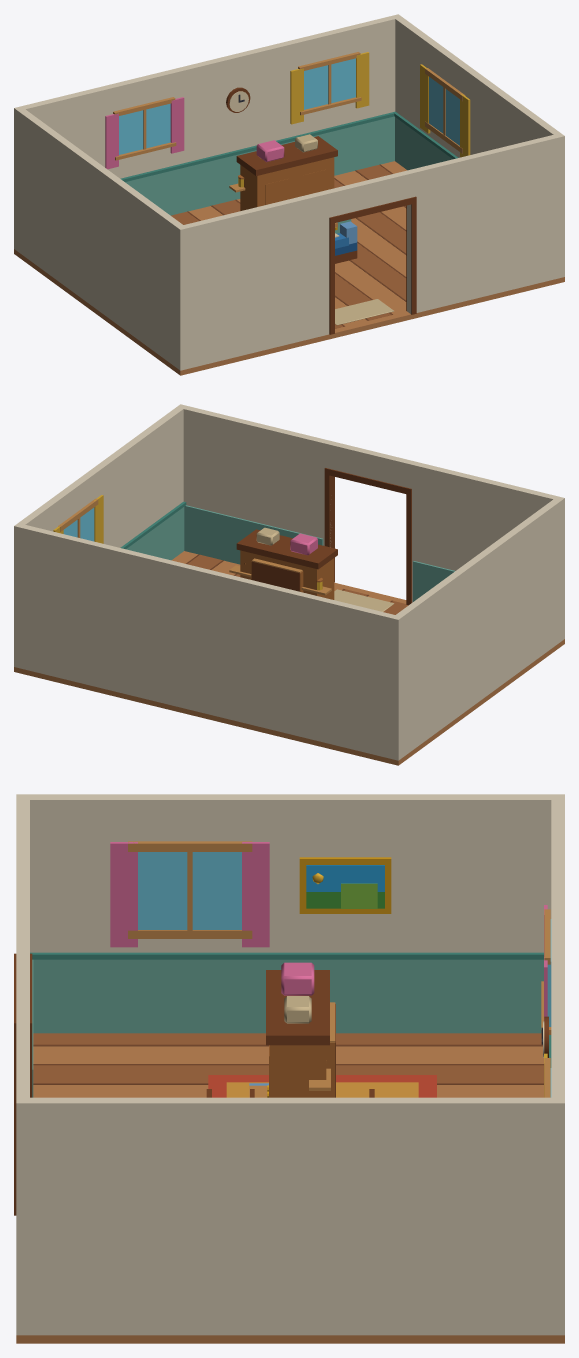
Rendered from interior-farmhouse.glb.
The picture shows the model from 3 angles, top to bottom: view 1: azimuth 30°, elevation 25°; view 2: azimuth 150°, elevation 25°; view 3: azimuth 270°, elevation 25°; orthographic projection. The views are drawn at different scales.
Parts seen in each view (by area): view 1: farmhouse_interior_front, farmhouse_interior_back, farmhouse_interior_left, farmhouse_interior_right, farmhouse_interior_floor, farmhouse_wardrobe, farmhouse_wardrobe_mid, farmhouse_sofa_mid; view 2: farmhouse_interior_back, farmhouse_interior_front, farmhouse_interior_left, farmhouse_interior_right, farmhouse_interior_floor, farmhouse_wardrobe, farmhouse_wardrobe_mid, farmhouse_memory_shelf; view 3: farmhouse_interior_right, farmhouse_interior_left, farmhouse_interior_floor, farmhouse_interior_back, farmhouse_interior_front, farmhouse_wardrobe, farmhouse_wardrobe_mid.
Part boxes in pixels (x1,y1,x2,y2): farmhouse_interior_front: (176,133,564,370); farmhouse_interior_back: (14,14,402,251); farmhouse_interior_left: (14,106,187,370); farmhouse_interior_right: (393,14,564,278); farmhouse_interior_floor: (14,161,564,375); farmhouse_wardrobe: (237,134,336,210); farmhouse_wardrobe_mid: (236,136,337,210); farmhouse_sofa_mid: (335,221,357,263); farmhouse_interior_back: (14,523,402,760); farmhouse_interior_front: (176,404,564,641); farmhouse_interior_left: (391,496,564,760); farmhouse_interior_right: (14,405,186,668); farmhouse_interior_floor: (14,551,564,765); farmhouse_wardrobe: (238,527,336,599); farmhouse_wardrobe_mid: (236,529,337,599); farmhouse_memory_shelf: (251,558,303,592); farmhouse_interior_right: (16,1097,564,1335); farmhouse_interior_left: (16,794,564,1033); farmhouse_interior_floor: (16,1033,564,1343); farmhouse_interior_back: (541,794,564,1335); farmhouse_interior_front: (14,794,33,1335); farmhouse_wardrobe: (267,962,327,1097); farmhouse_wardrobe_mid: (266,970,329,1097).
Bounding box in the file's own units: 8 × 2.9 × 6.02.
